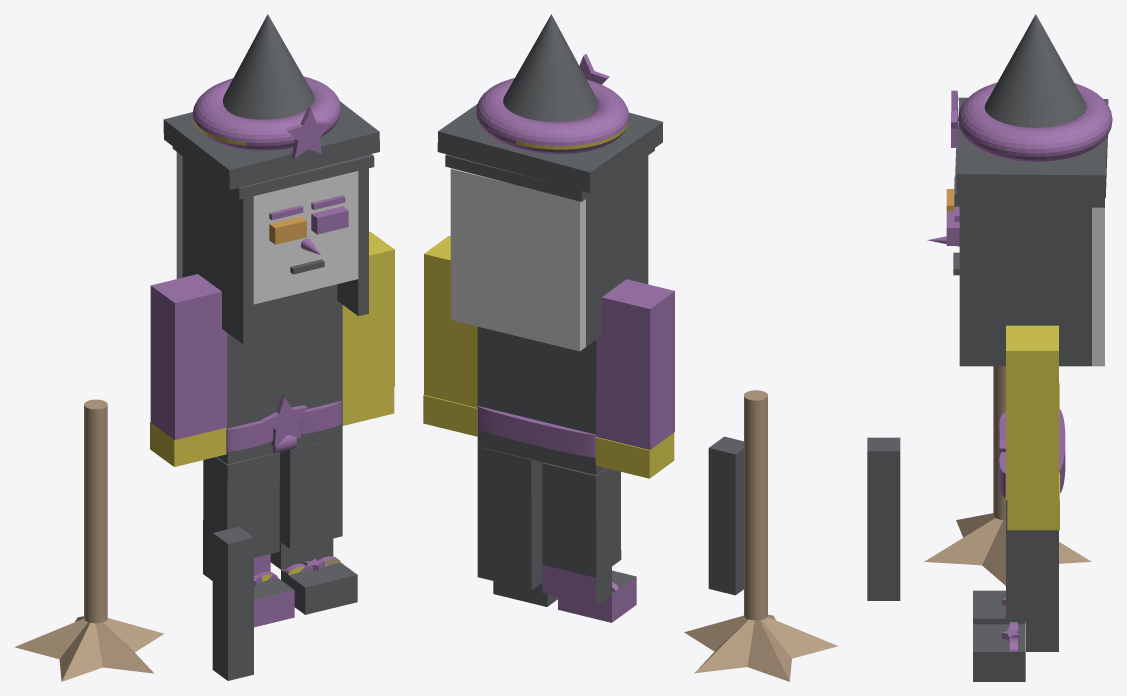
The model's file is bombul.glb.
The picture shows the model from 3 angles, left to right: view 1: azimuth 30°, elevation 25°; view 2: azimuth 150°, elevation 25°; view 3: azimuth 270°, elevation 25°; orthographic projection. The views are drawn at different scales.
Parts seen in each view (by area): view 1: Mesh_Mesh_head_geo.001_lambert2SG.001; view 2: Mesh_Mesh_head_geo.001_lambert2SG.001; view 3: Mesh_Mesh_head_geo.001_lambert2SG.001.
Boxes of the visible parts, x1,y1,x2,y2 form: Mesh_Mesh_head_geo.001_lambert2SG.001: (14,14,394,681); Mesh_Mesh_head_geo.001_lambert2SG.001: (423,14,838,681); Mesh_Mesh_head_geo.001_lambert2SG.001: (867,14,1112,681).
Bounding box in the file's own units: 68 × 106 × 37.14.
